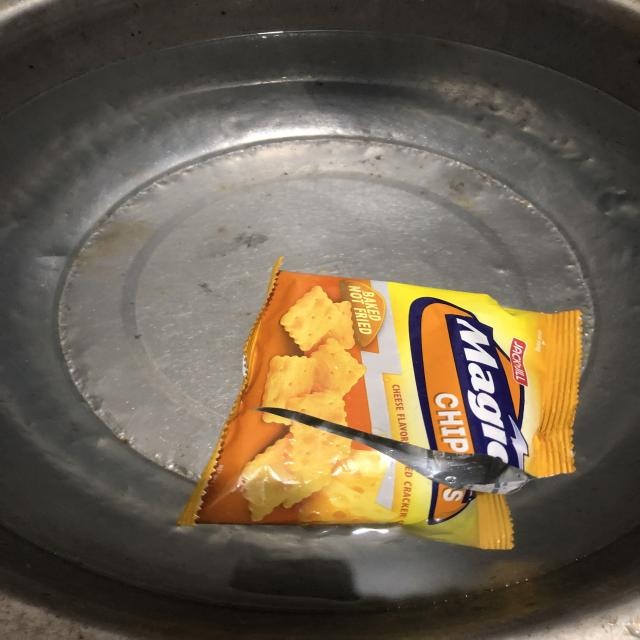Plastic Wrapper: (153, 250, 585, 554)
